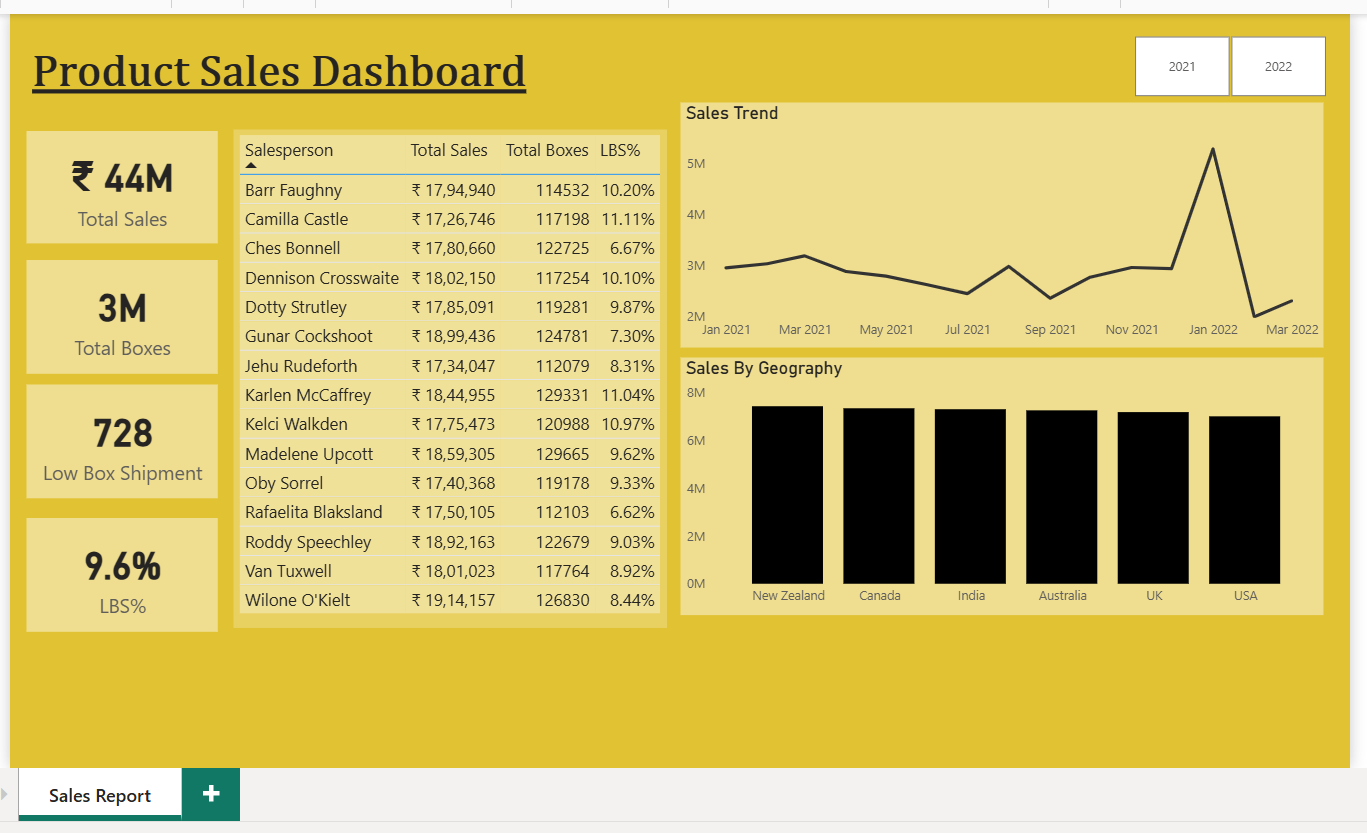

The page's visual inventory and layout, read from the dashboard file:
{"tool":"powerbi","page":{"name":"Sales Report","canvas":[1280,720],"ordinal":0},"visuals":[{"type":"card","fields":{"Values":["sales.Total Sales"]},"box":[16.2,111.2,182.5,107.5],"z":0},{"type":"card","fields":{"Values":["sales.Total Boxes"]},"box":[16.2,235.2,182.9,108.6],"z":1000},{"type":"card","fields":{"Values":["sales.Low Box Shipment"]},"box":[16.2,353.8,182.9,108.6],"z":2000},{"type":"card","fields":{"Values":["sales.LBS%"]},"box":[16.2,481,182.9,108.6],"z":3000},{"type":"columnChart","title":"Sales By Geography","fields":{"Category":["geo.Geo"],"Y":["sales.Total Sales"]},"box":[640,328.6,614.3,245.7],"z":4000},{"type":"lineChart","title":"Sales Trend","fields":{"Y":["sales.Total Sales"],"Category":["sales.SaleDate.Variation.Date Hierarchy.Year","sales.SaleDate.Variation.Date Hierarchy.Month"]},"box":[640,84.3,614.3,234.3],"z":5000},{"type":"tableEx","fields":{"Values":["people.Salesperson","sales.Total Sales","sales.Total Boxes","sales.LBS%"]},"box":[212.9,110,414.3,475.7],"z":6000},{"type":"textbox","box":[16.2,27.5,643.8,66.2],"z":7000},{"type":"slicer","fields":{"Values":["sales.SaleDate.Variation.Date Hierarchy.Year"]},"box":[1047.8,13.6,231.7,71.2],"z":8000}]}

Visuals, with their boxes on the page's 1280x720 design canvas (x1, y1, x2, y2). These are canvas units, not pixel positions in the 1367x833 screenshot, which may show the page scaled, cropped or inside an application window:
card - sales.Total Sales: (16, 111, 199, 219)
card - sales.Total Boxes: (16, 235, 199, 344)
card - sales.Low Box Shipment: (16, 354, 199, 462)
card - sales.LBS%: (16, 481, 199, 590)
"Sales By Geography" columnChart: (640, 329, 1254, 574)
"Sales Trend" lineChart: (640, 84, 1254, 319)
tableEx - people.Salesperson x sales.Total Sales: (213, 110, 627, 586)
textbox: (16, 28, 660, 94)
slicer - sales.SaleDate.Variation.Date Hierarchy.Year: (1048, 14, 1280, 85)
